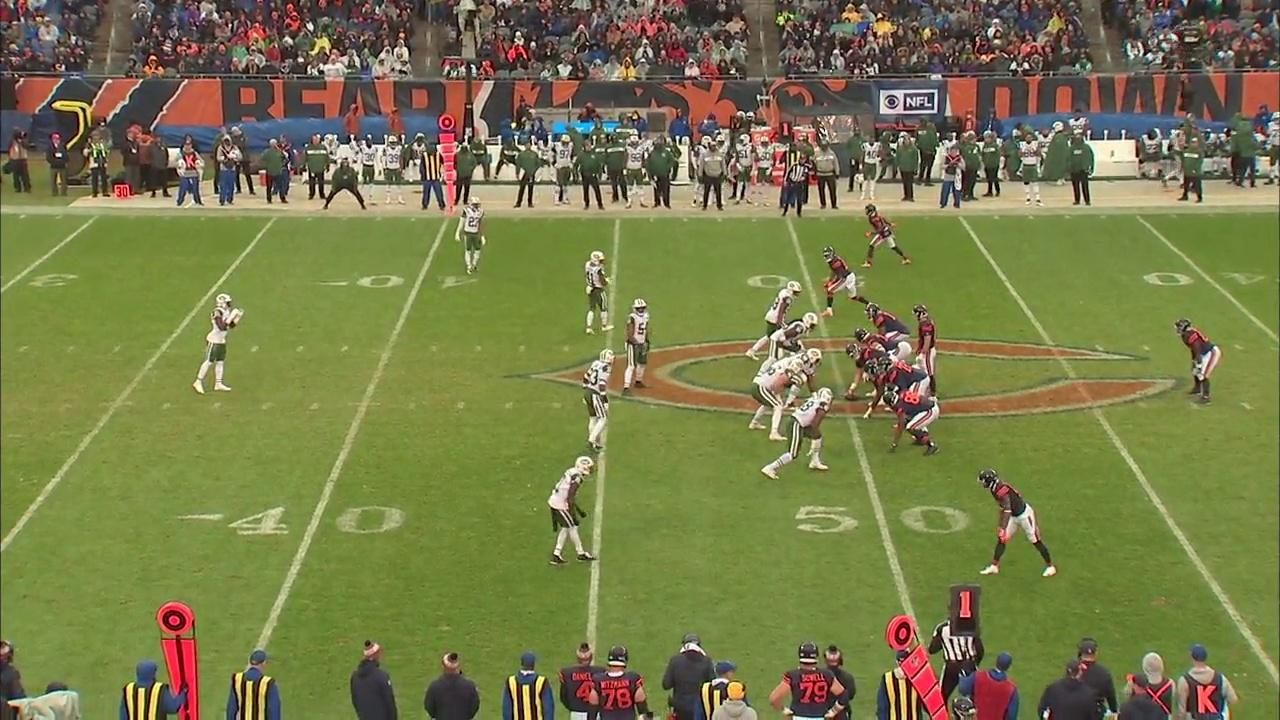player: (969, 469, 1064, 585), (764, 380, 839, 481), (190, 283, 251, 395), (545, 456, 600, 573), (743, 278, 804, 362), (621, 288, 661, 400), (743, 356, 802, 431), (1173, 315, 1221, 401), (882, 391, 938, 459), (581, 348, 616, 454), (844, 336, 899, 402), (773, 345, 827, 410), (454, 194, 491, 284), (581, 248, 618, 338), (822, 245, 866, 318), (764, 306, 819, 364), (863, 204, 911, 269), (909, 299, 939, 372), (878, 359, 931, 399), (861, 302, 911, 339), (854, 323, 907, 355), (864, 363, 893, 421)
ref: (938, 605, 989, 671), (776, 152, 819, 222)
